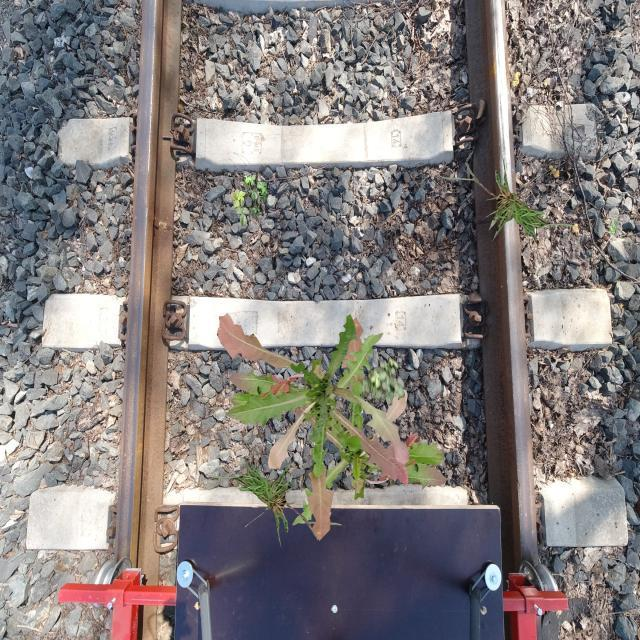Plant: (267, 317, 447, 526), (229, 333, 409, 542), (217, 313, 410, 465), (441, 154, 584, 244), (199, 459, 342, 549), (362, 357, 406, 407), (231, 172, 268, 227), (605, 218, 619, 233)
